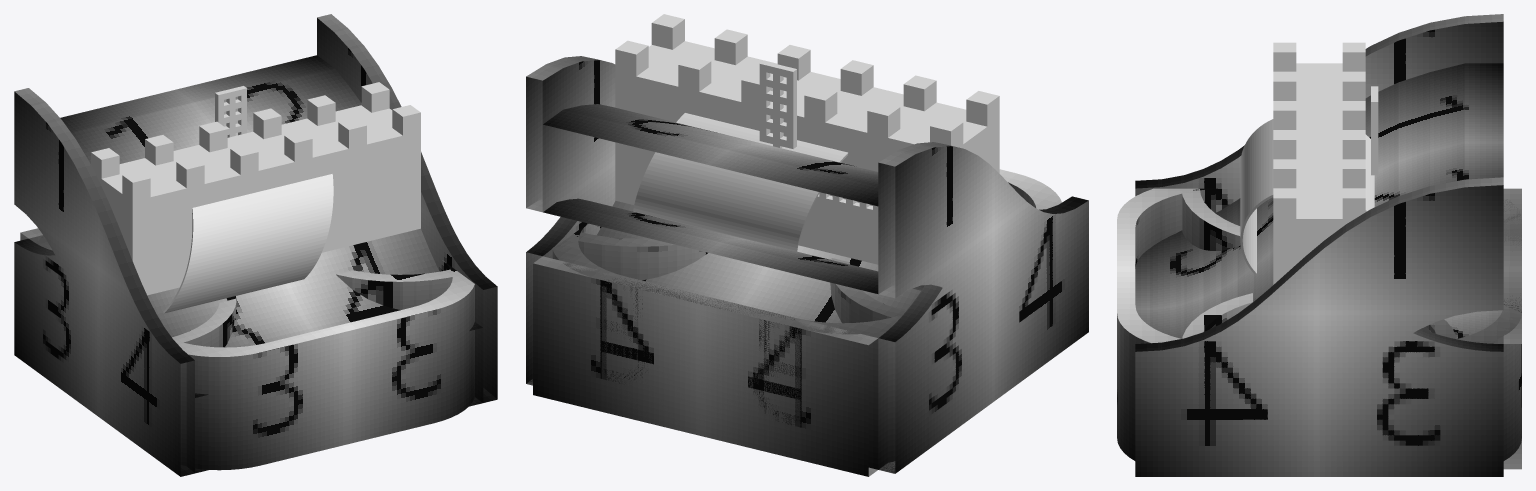
Rendered from Props.fbx.
3 views of the same model, side by side, from view 1: azimuth 30°, elevation 25°; view 2: azimuth 150°, elevation 25°; view 3: azimuth 270°, elevation 25° (orthographic). The views are drawn at different scales.
Parts seen in each view (by area): view 1: Single Tile Wall, Castle, Slope Tile, Slope Tile Wall, Hole Tile Wall, Loop, Narrow Line Tile Wall, Start Tile Wall, Bump Line Tile Wall, Edge Tile R Wall, Line Tile Wall, Blades (+1 smaller); view 2: Single Tile Wall, Castle, Slope Tile Wall, Slope Tile, Corner Tile L Wall, Corner Tile R Wall, Hole Tile Wall, Bump Line Tile Wall, Loop, Narrow Line Tile Wall, Bump Line Tile, Blades (+6 smaller); view 3: Slope Tile Wall, Hole Tile Wall, Single Tile Wall, Slope Tile, Castle, Start Tile Wall, Bump Line Tile Wall, Line Tile Wall, Narrow Line Tile Wall, Bump Line Tile, Loop, Corner Tile L Wall (+2 smaller).
Boxes of the visible parts, x1,y1,x2,y2 form: Single Tile Wall: [38, 235, 474, 470]; Castle: [91, 82, 420, 295]; Slope Tile: [60, 55, 481, 472]; Slope Tile Wall: [14, 14, 497, 476]; Hole Tile Wall: [37, 236, 193, 476]; Loop: [163, 174, 333, 313]; Narrow Line Tile Wall: [14, 244, 459, 397]; Start Tile Wall: [14, 243, 70, 394]; Bump Line Tile Wall: [14, 209, 479, 387]; Edge Tile R Wall: [430, 251, 497, 402]; Line Tile Wall: [14, 243, 194, 471]; Blades: [215, 86, 246, 137]; Single Tile Wall: [552, 169, 1061, 462]; Castle: [615, 14, 999, 264]; Slope Tile Wall: [526, 56, 1088, 351]; Slope Tile: [542, 104, 924, 294]; Corner Tile L Wall: [600, 278, 878, 476]; Corner Tile R Wall: [533, 256, 998, 458]; Hole Tile Wall: [553, 200, 1088, 461]; Bump Line Tile Wall: [526, 165, 1086, 471]; Loop: [633, 113, 848, 251]; Narrow Line Tile Wall: [578, 232, 928, 473]; Bump Line Tile: [597, 200, 920, 468]; Blades: [759, 61, 878, 217]; Slope Tile Wall: [1135, 14, 1503, 393]; Hole Tile Wall: [1135, 188, 1521, 476]; Single Tile Wall: [1117, 188, 1521, 476]; Slope Tile: [1135, 63, 1503, 338]; Castle: [1273, 42, 1365, 284]; Start Tile Wall: [1210, 189, 1503, 476]; Bump Line Tile Wall: [1136, 165, 1503, 476]; Line Tile Wall: [1135, 188, 1503, 476]; Narrow Line Tile Wall: [1135, 188, 1503, 476]; Bump Line Tile: [1135, 233, 1502, 338]; Loop: [1240, 119, 1374, 274]; Corner Tile L Wall: [1138, 188, 1521, 476].
Bounding box in the file's own units: 220 × 178 × 220.
